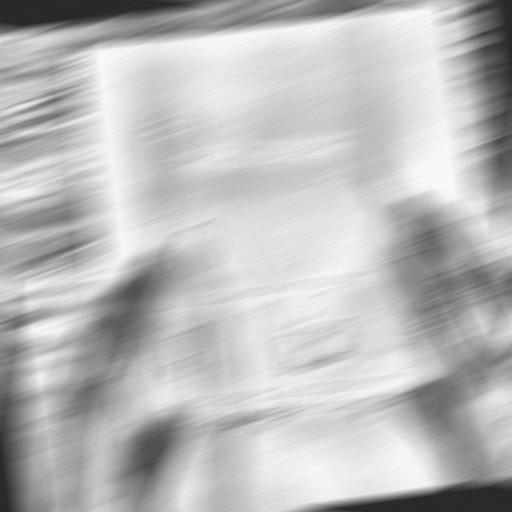house: (112, 84, 500, 443)
top_left: (64, 45, 85, 55)
top_right: (439, 2, 463, 11)
